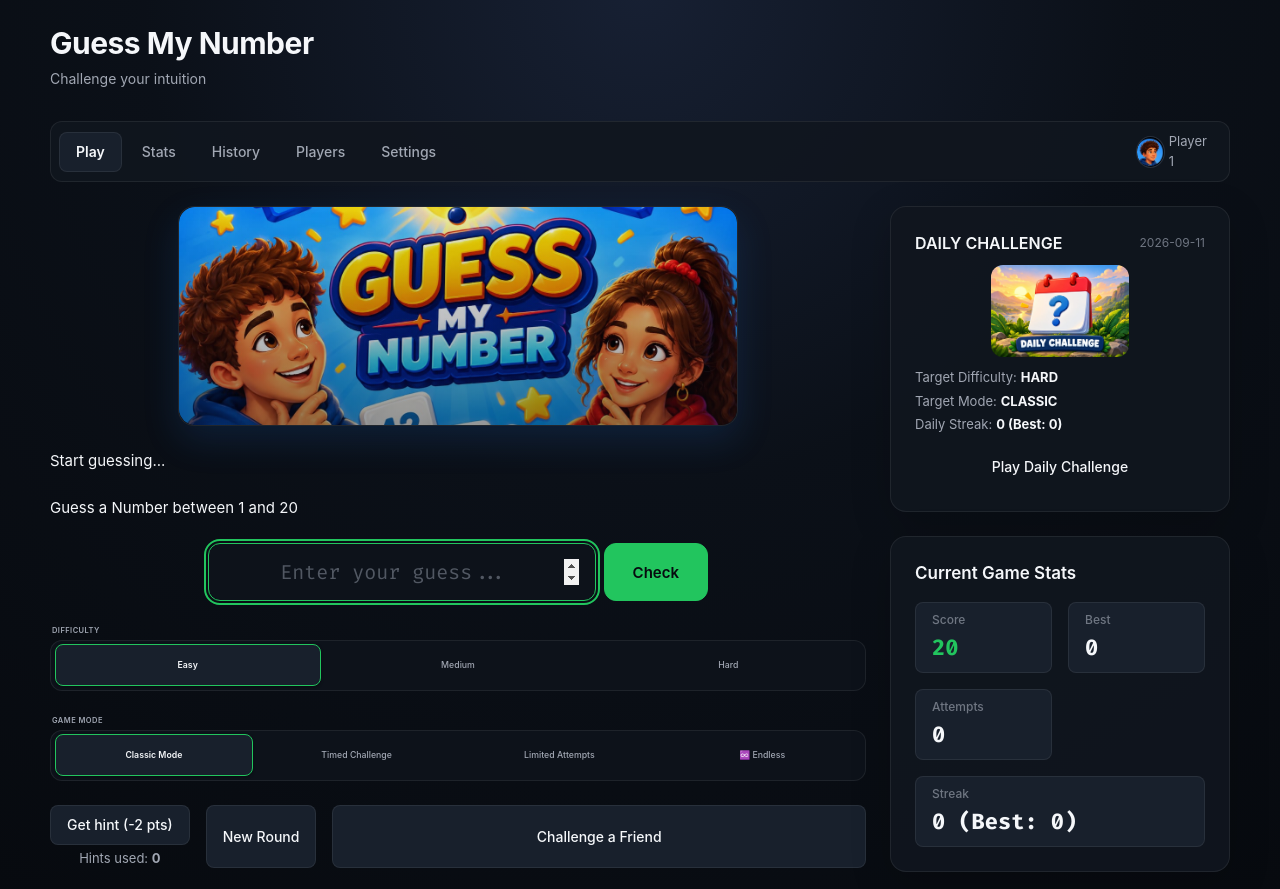
Test: Phase 15 analytics UI › renders analytics sections and empty states on the Stats page
The width and height of the screenshot is (1280, 889).
Click the tab "Stats": point(159, 152) [126,132,192,172]
(page scrolled)
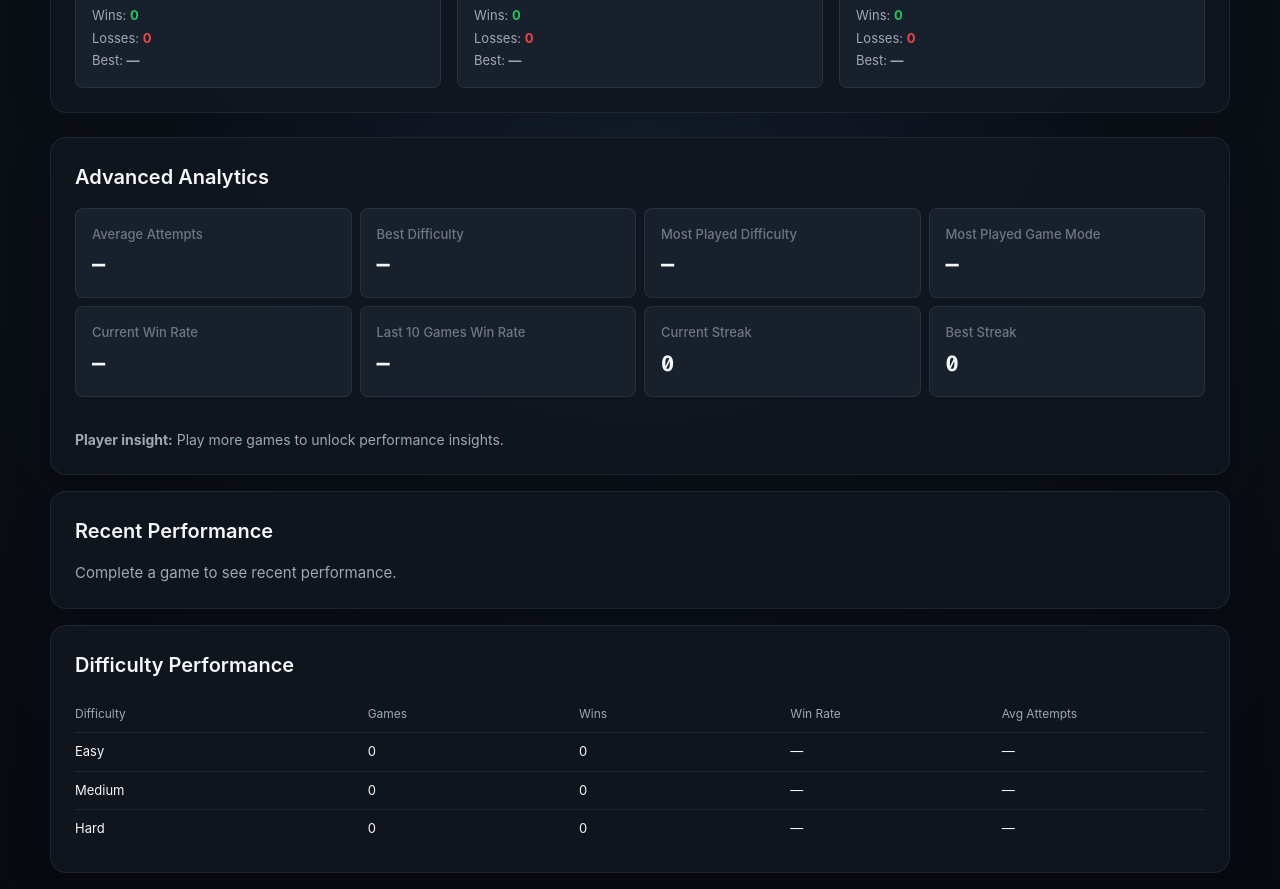
Expected: the element named "Advanced Player Analytics" is shown, [50,136,1230,474]
Expected: the heading "Recent Performance" is shown, [75,518,273,542]
Expected: the heading "Difficulty Performance" is shown, [75,653,294,677]
